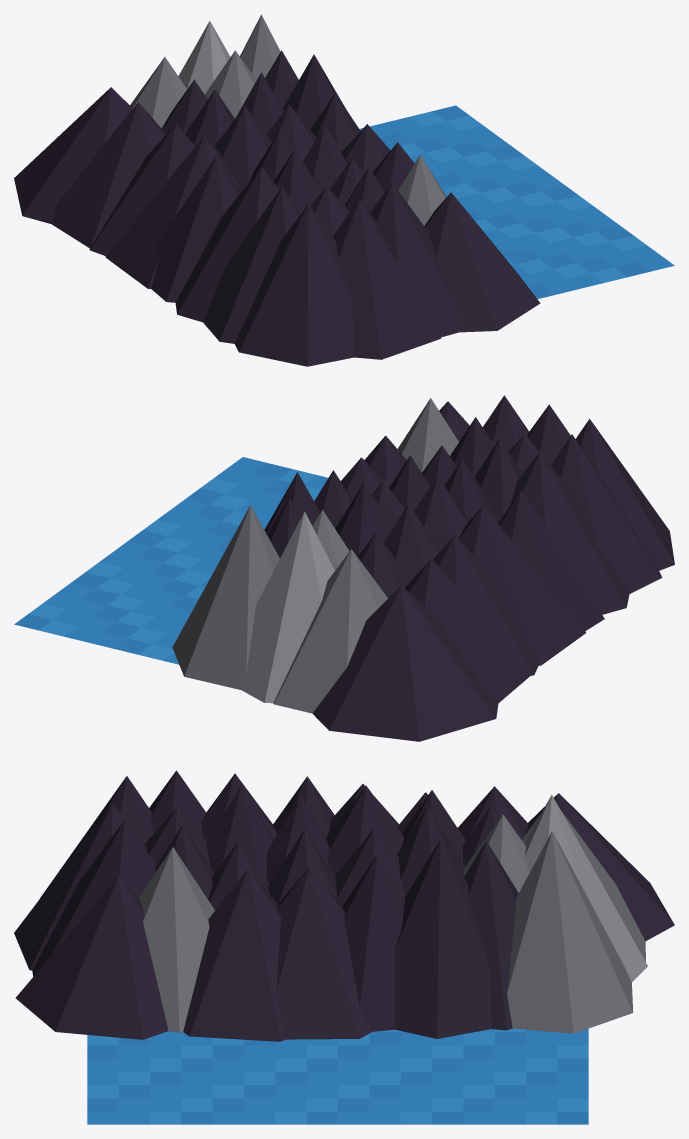
File: chunk_3_23.glb
3 renders of one model, top to bottom at view 1: azimuth 30°, elevation 25°; view 2: azimuth 150°, elevation 25°; view 3: azimuth 270°, elevation 25°, orthographic. The views are drawn at different scales.
Parts seen in each view (by area): view 1: chunk_3_23; view 2: chunk_3_23; view 3: chunk_3_23.
Part boxes in pixels (bbox=[...]): chunk_3_23: bbox=[14, 14, 674, 366]; chunk_3_23: bbox=[14, 395, 674, 741]; chunk_3_23: bbox=[14, 770, 674, 1124].
Size of the model in its own units: 18.88 by 6.47 by 21.09.
